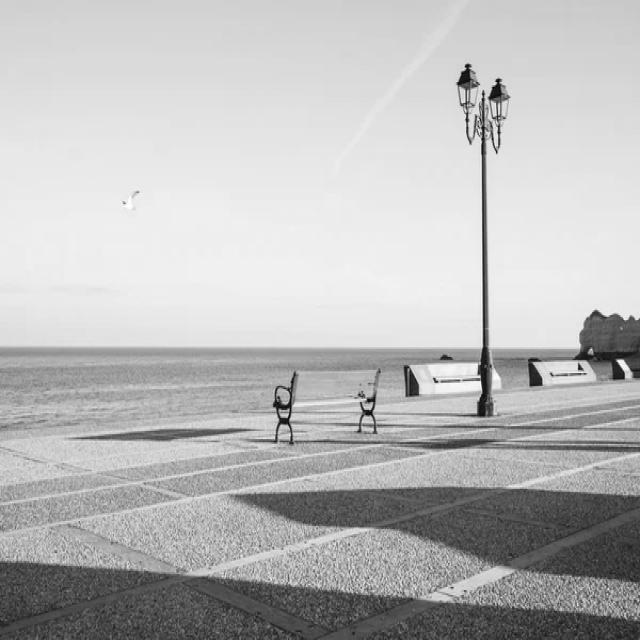Pole: (459, 62, 511, 416)
